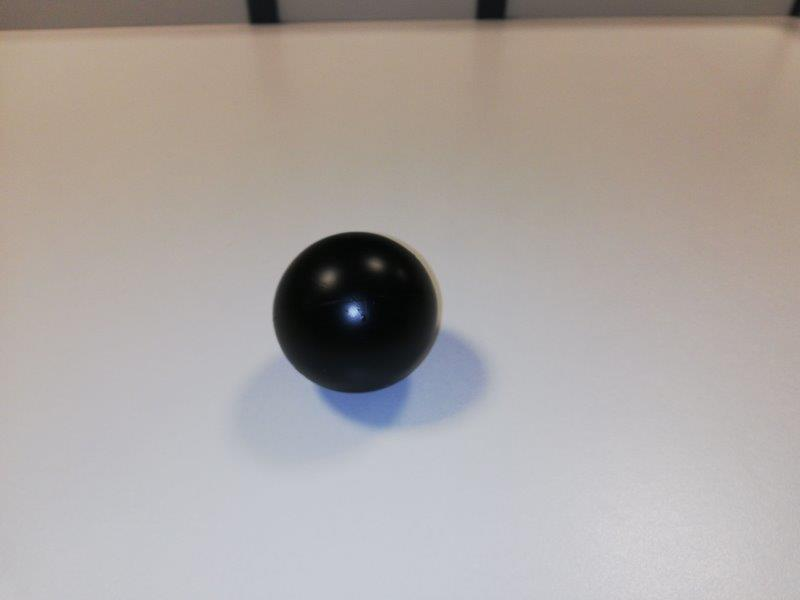nera: (272, 230, 439, 393)
